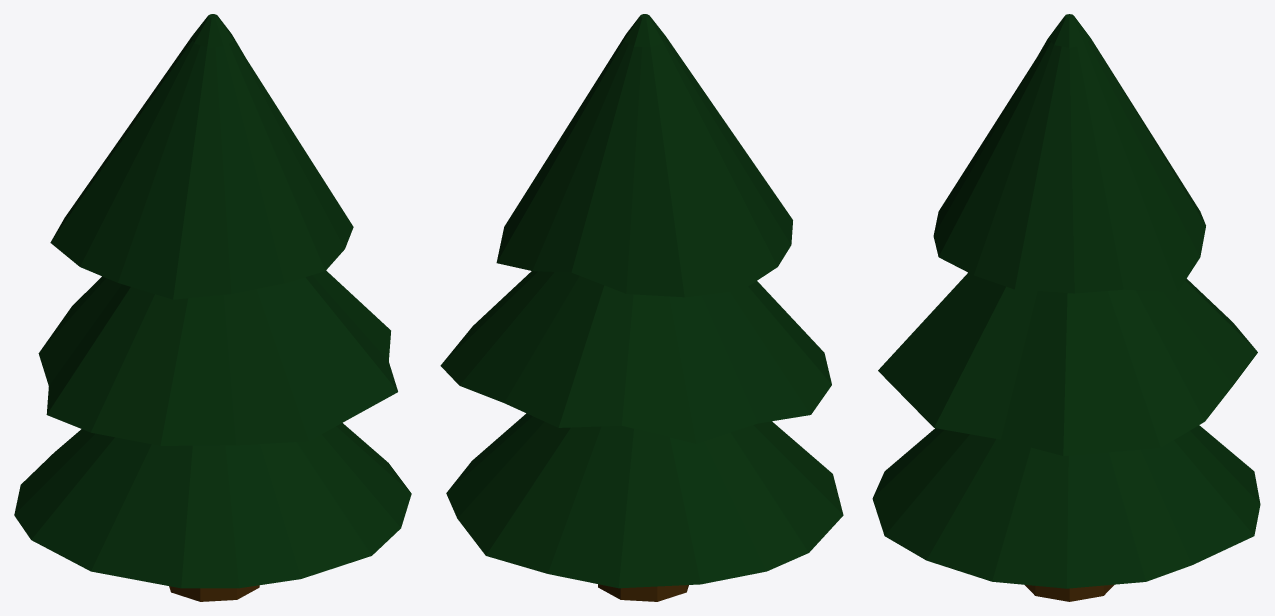
The model's file is Tree_3.fbx.
The picture shows the model from 3 angles, left to right: view 1: azimuth 30°, elevation 25°; view 2: azimuth 150°, elevation 25°; view 3: azimuth 270°, elevation 25°; orthographic projection.
Visible parts, largest first — view 1: Cylinder.060; view 2: Cylinder.060; view 3: Cylinder.060.
Boxes of the visible parts, x1,y1,x2,y2 form: Cylinder.060: (14,14,411,601); Cylinder.060: (440,14,843,601); Cylinder.060: (872,14,1260,601).
Bounding box in the file's own units: 203 × 315 × 196.
